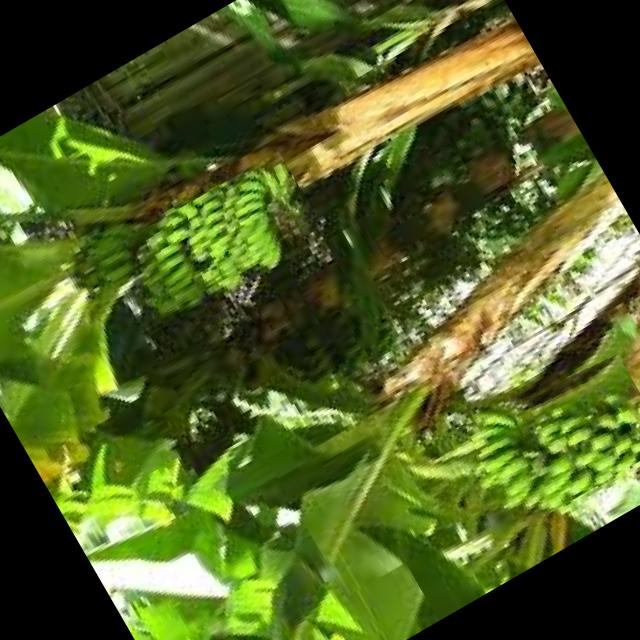Organic: (430, 338, 640, 546), (100, 150, 321, 327)
